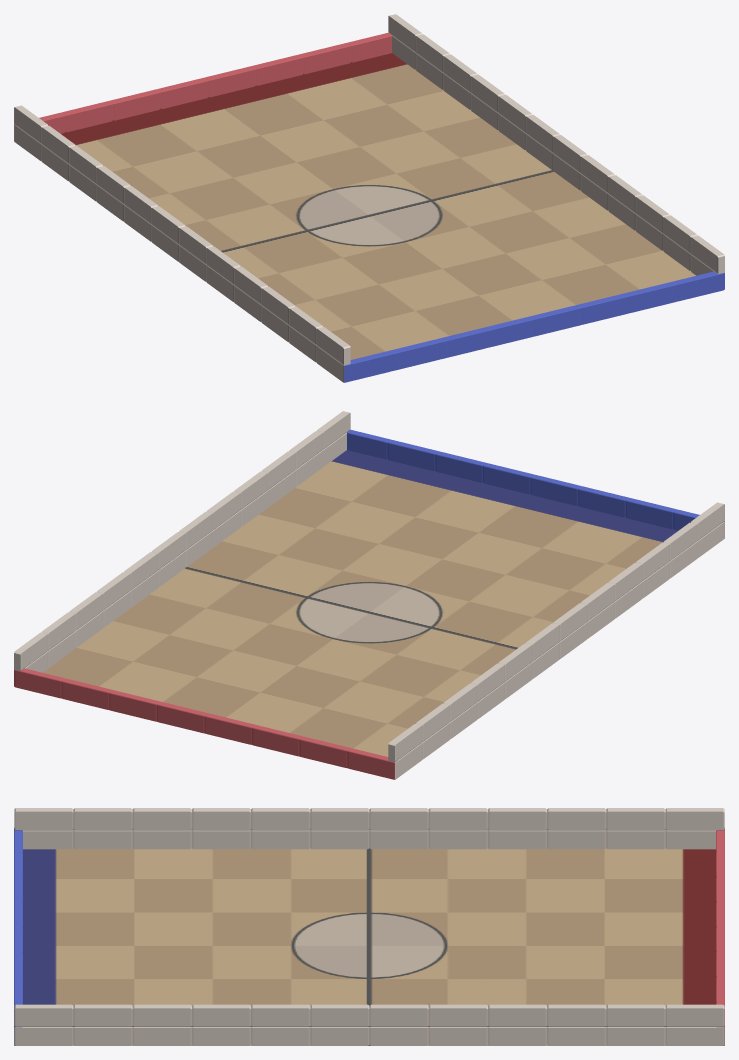
The model's file is arenaExport.glb.
3 renders of one model, top to bottom at view 1: azimuth 30°, elevation 25°; view 2: azimuth 150°, elevation 25°; view 3: azimuth 270°, elevation 25°, orthographic. The views are drawn at different scales.
Parts seen in each view (by area): view 1: floor, wallLeft, wallRight, blueWall, redWall; view 2: floor, wallLeft, wallRight, redWall, blueWall; view 3: floor, wallRight, wallLeft, blueWall, redWall.
Boxes of the visible parts, x1,y1,x2,y2 form: floor: (41, 53, 695, 382); wallLeft: (14, 105, 350, 382); wallRight: (388, 14, 724, 275); blueWall: (342, 271, 724, 382); redWall: (14, 32, 391, 133); floor: (43, 450, 697, 779); wallLeft: (388, 502, 724, 779); wallRight: (14, 411, 350, 672); redWall: (14, 668, 396, 779); blueWall: (347, 429, 724, 530); floor: (14, 848, 724, 1045); wallRight: (14, 1004, 724, 1045); wallLeft: (14, 808, 724, 849); blueWall: (14, 828, 22, 1045); redWall: (716, 828, 724, 1045).
Size of the model in its own units: 8.01 by 0.7 by 12.01.
Materials: 4 (1 with a texture image).
